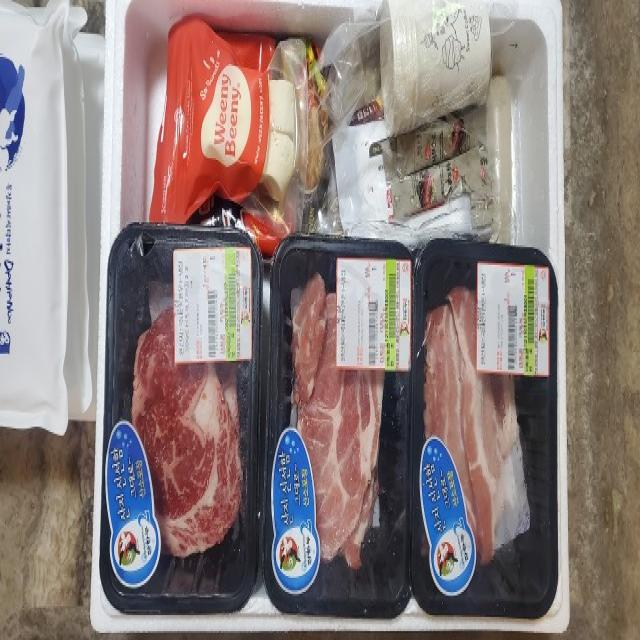pork: (92, 214, 251, 611), (262, 225, 415, 600), (425, 218, 545, 618)
